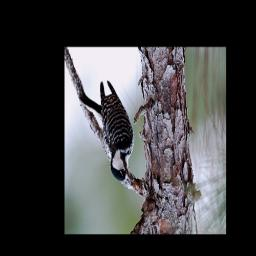Woodpecker: (79, 80, 137, 186)
